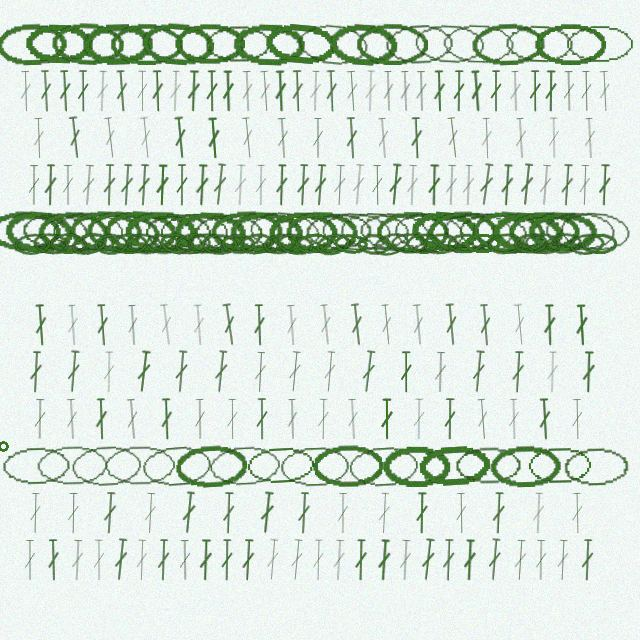chain: (246, 207, 324, 256), (85, 208, 162, 256), (263, 20, 338, 68), (295, 20, 370, 68), (391, 208, 466, 256), (471, 208, 546, 256), (103, 208, 179, 255), (356, 208, 432, 255), (139, 442, 215, 489), (140, 20, 215, 67), (557, 208, 632, 255), (441, 208, 515, 255), (319, 209, 394, 255), (207, 443, 282, 489), (3, 208, 76, 255), (409, 208, 482, 255), (412, 21, 486, 67), (174, 443, 248, 489), (346, 443, 420, 489), (417, 443, 491, 489), (456, 209, 529, 255), (338, 209, 412, 254), (69, 443, 143, 488), (243, 443, 317, 488), (328, 21, 400, 67), (471, 22, 546, 66), (51, 21, 124, 66), (383, 21, 456, 66), (19, 209, 92, 254), (69, 209, 142, 254), (543, 209, 616, 254), (441, 22, 515, 66), (229, 210, 303, 254), (278, 444, 352, 488), (232, 22, 305, 66), (503, 22, 576, 66), (173, 210, 246, 254), (285, 210, 358, 254), (0, 444, 73, 488), (210, 210, 284, 253), (35, 444, 109, 487), (37, 210, 109, 254), (491, 210, 563, 254), (527, 210, 599, 254), (489, 444, 561, 488), (51, 210, 124, 253), (103, 444, 176, 487), (312, 444, 385, 487), (24, 22, 95, 66), (561, 444, 632, 488), (110, 23, 184, 65), (376, 211, 450, 253), (81, 22, 153, 65), (124, 210, 196, 253), (303, 210, 375, 253), (427, 210, 499, 253), (508, 211, 581, 253), (142, 210, 213, 253), (453, 444, 524, 487), (356, 23, 428, 65), (534, 23, 606, 65), (564, 23, 636, 65), (192, 211, 264, 253), (525, 444, 595, 487), (174, 23, 245, 65), (203, 23, 274, 65), (158, 211, 229, 253), (268, 211, 339, 253), (0, 22, 67, 66), (382, 445, 452, 487), (0, 210, 62, 253), (371, 229, 411, 259), (69, 229, 109, 258), (314, 230, 352, 258), (158, 230, 196, 257), (276, 231, 314, 257), (32, 231, 70, 256), (294, 231, 332, 256), (238, 231, 275, 256), (125, 232, 163, 256), (262, 232, 300, 256), (568, 232, 606, 256), (14, 232, 51, 256), (524, 232, 562, 255), (333, 232, 369, 256), (174, 232, 211, 255), (187, 232, 224, 255), (422, 232, 459, 255), (487, 232, 524, 255), (545, 232, 582, 255), (513, 232, 549, 255), (145, 233, 181, 255), (201, 233, 237, 255), (50, 233, 87, 254), (94, 233, 129, 255), (221, 233, 256, 255), (357, 233, 392, 255), (111, 233, 147, 254), (391, 233, 427, 254), (447, 233, 483, 254), (464, 233, 500, 254), (581, 233, 617, 254), (406, 233, 441, 254)
double: (477, 163, 496, 206), (157, 303, 176, 346), (220, 303, 239, 346), (359, 350, 378, 393), (66, 116, 84, 159), (101, 116, 119, 159), (444, 116, 462, 159), (211, 163, 229, 206), (518, 163, 536, 206), (317, 303, 335, 346), (348, 303, 366, 346), (135, 350, 153, 393), (212, 350, 230, 393), (180, 491, 198, 534), (258, 491, 276, 534), (112, 538, 130, 581), (419, 538, 437, 581), (137, 116, 154, 159), (172, 116, 189, 159), (239, 116, 256, 159), (350, 163, 367, 206), (387, 163, 404, 206), (378, 303, 395, 346), (410, 303, 427, 346), (443, 303, 460, 346), (511, 303, 528, 346), (65, 350, 82, 393), (173, 350, 190, 393), (286, 350, 303, 393), (321, 350, 338, 393), (470, 350, 487, 393), (264, 538, 281, 581), (288, 538, 305, 581), (486, 538, 503, 581), (468, 70, 485, 112), (375, 117, 392, 159), (80, 164, 97, 206), (312, 164, 329, 206), (537, 164, 554, 206), (94, 304, 111, 346), (477, 304, 494, 346), (124, 398, 141, 440), (474, 398, 491, 440), (38, 70, 54, 112), (57, 70, 73, 112), (114, 70, 130, 112), (257, 70, 273, 112), (344, 70, 360, 112), (206, 117, 222, 159), (275, 117, 291, 159), (344, 117, 360, 159), (513, 117, 529, 159), (582, 117, 598, 159), (119, 164, 135, 206), (136, 164, 152, 206), (194, 164, 210, 206), (295, 164, 311, 206), (499, 164, 515, 206), (559, 164, 575, 206), (33, 304, 49, 346), (65, 304, 81, 346), (125, 304, 141, 346), (191, 304, 207, 346), (284, 304, 300, 346), (574, 304, 590, 346), (28, 351, 44, 393), (252, 351, 268, 393), (510, 351, 526, 393), (64, 398, 80, 440), (345, 398, 361, 440), (537, 398, 553, 440), (102, 492, 118, 534), (142, 492, 158, 534), (296, 492, 312, 534), (376, 492, 392, 534), (240, 539, 256, 581), (331, 539, 347, 581), (376, 539, 392, 581), (512, 539, 528, 581), (18, 70, 33, 112), (95, 70, 110, 112), (150, 70, 165, 112), (168, 70, 183, 112), (186, 70, 201, 112), (240, 70, 255, 112), (273, 70, 288, 112), (290, 70, 305, 112), (308, 70, 323, 112), (324, 70, 339, 112), (363, 70, 378, 112), (381, 70, 396, 112), (398, 70, 413, 112), (414, 70, 429, 112), (432, 70, 447, 112), (508, 70, 523, 112), (597, 70, 612, 112), (31, 117, 46, 159), (409, 117, 424, 159), (479, 117, 494, 159), (43, 164, 58, 206), (102, 164, 117, 206), (155, 164, 170, 206), (233, 164, 248, 206), (274, 164, 289, 206), (332, 164, 347, 206), (405, 164, 420, 206), (444, 164, 459, 206), (461, 164, 476, 206), (577, 164, 592, 206), (597, 164, 612, 206), (252, 304, 267, 346), (542, 304, 557, 346), (433, 351, 448, 393), (545, 351, 560, 393), (581, 351, 596, 393), (94, 398, 109, 440), (159, 398, 174, 440), (285, 398, 300, 440), (221, 492, 236, 534), (491, 492, 506, 534), (531, 492, 546, 534), (46, 539, 61, 581), (70, 539, 85, 581), (134, 539, 149, 581), (156, 539, 171, 581), (198, 539, 213, 581), (398, 539, 413, 581), (441, 539, 456, 581), (462, 539, 477, 581), (555, 539, 570, 581), (580, 539, 595, 581), (76, 70, 90, 112), (135, 70, 149, 112), (205, 70, 219, 112), (221, 70, 235, 112), (452, 70, 466, 112), (489, 70, 503, 112), (528, 70, 542, 112), (544, 70, 558, 112), (562, 70, 576, 112), (579, 70, 593, 112), (311, 117, 325, 159), (547, 117, 561, 159), (27, 164, 41, 206), (61, 164, 75, 206), (175, 164, 189, 206), (254, 164, 268, 206), (370, 164, 384, 206), (427, 164, 441, 206), (102, 351, 116, 393), (399, 351, 413, 393), (33, 398, 47, 440), (193, 398, 207, 440), (225, 398, 239, 440), (255, 398, 269, 440), (316, 398, 330, 440), (380, 398, 394, 440), (412, 398, 426, 440), (443, 398, 457, 440), (507, 398, 521, 440), (570, 398, 584, 440), (28, 492, 42, 534), (66, 492, 80, 534), (336, 492, 350, 534), (415, 492, 429, 534), (454, 492, 468, 534), (570, 492, 584, 534), (23, 539, 37, 581), (92, 539, 106, 581), (178, 539, 192, 581), (220, 539, 234, 581), (311, 539, 325, 581), (354, 539, 368, 581), (534, 539, 548, 581)
noise: (0, 439, 10, 453)
